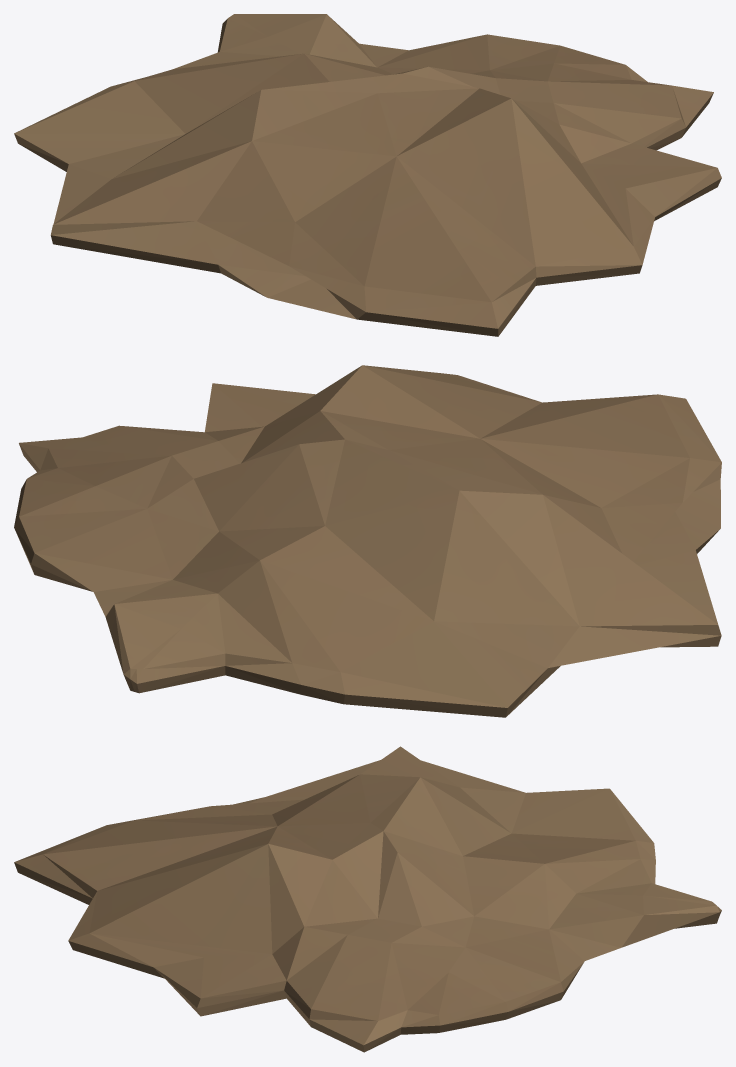
File: dirt_cluster_brown.obj
The picture shows the model from 3 angles, top to bottom: view 1: azimuth 30°, elevation 25°; view 2: azimuth 150°, elevation 25°; view 3: azimuth 270°, elevation 25°; orthographic projection. The views are drawn at different scales.
Parts seen in each view (by area): view 1: dirt_cluster_brown_Mesh; view 2: dirt_cluster_brown_Mesh; view 3: dirt_cluster_brown_Mesh.
Boxes of the visible parts, x1,y1,x2,y2 form: dirt_cluster_brown_Mesh: (14,14,721,336); dirt_cluster_brown_Mesh: (14,365,721,717); dirt_cluster_brown_Mesh: (14,746,721,1052).
Bounding box in the file's own units: 0.8298 × 0.1274 × 0.8518.
